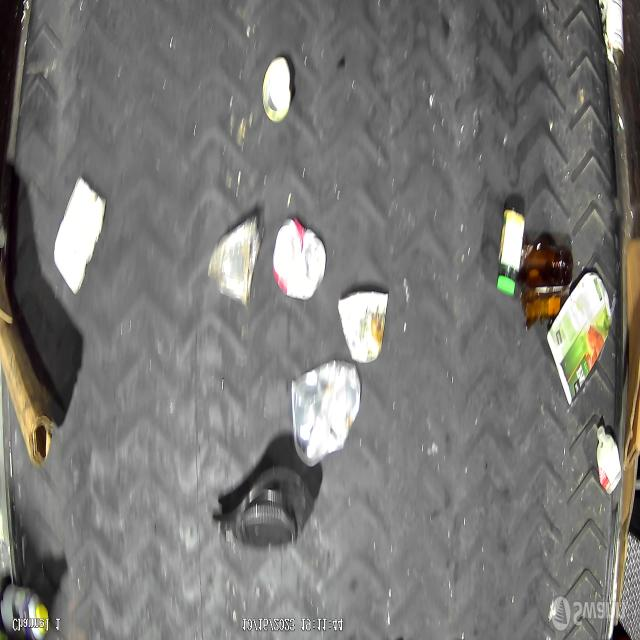can: (270, 219, 328, 300), (262, 54, 293, 124), (601, 0, 626, 70)
